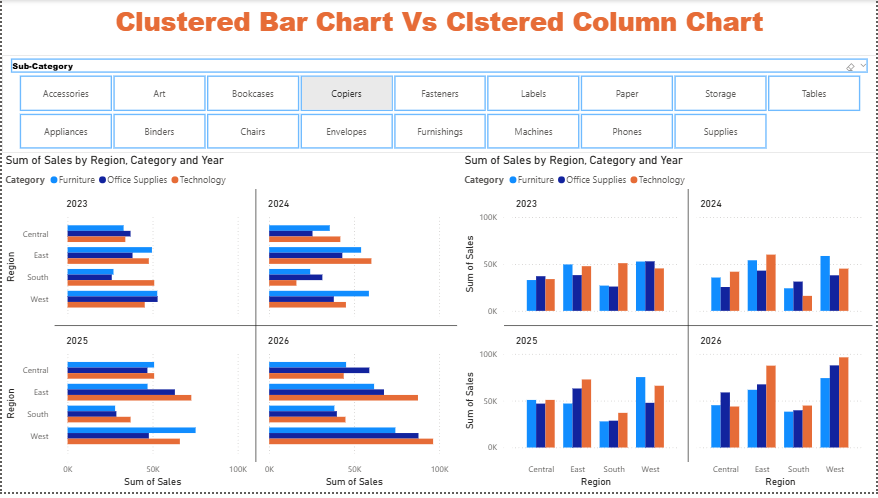

Layout of this report page (visuals, bound fields, positions):
{"tool":"powerbi","page":{"name":"Page 1","canvas":[1280,720],"ordinal":0},"visuals":[{"type":"barChart","fields":{"Category":["Orders.Category"],"Y":["Sum(Orders.Sales)"],"Series":["Orders.Region"],"Rows":["Orders.Order Date.Variation.Date Hierarchy.Year"]},"box":[32,304,560,400],"z":0},{"type":"columnChart","fields":{"Category":["Orders.Category"],"Y":["Sum(Orders.Sales)"],"Series":["Orders.Region"],"Rows":["Orders.Order Date.Variation.Date Hierarchy.Year"]},"box":[640,304,624,400],"z":1000},{"type":"slicer","fields":{"Values":["Orders.Region"]},"box":[32,128,1232,144],"z":2000},{"type":"textbox","box":[32,16,1216,80],"z":3000}]}

Visuals, with their boxes in screenshot pixels (x1, y1, x2, y2), scaled from the page's 1280x720 canvas onto the 878x498 screenshot:
barChart - Orders.Category x Sum(Orders.Sales): (22, 210, 406, 487)
columnChart - Orders.Category x Sum(Orders.Sales): (439, 210, 867, 487)
slicer - Orders.Region: (22, 89, 867, 188)
textbox: (22, 11, 856, 66)
